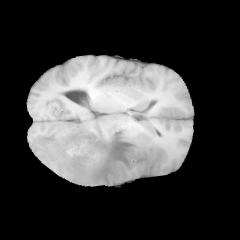glioma: (31, 126, 137, 186)
